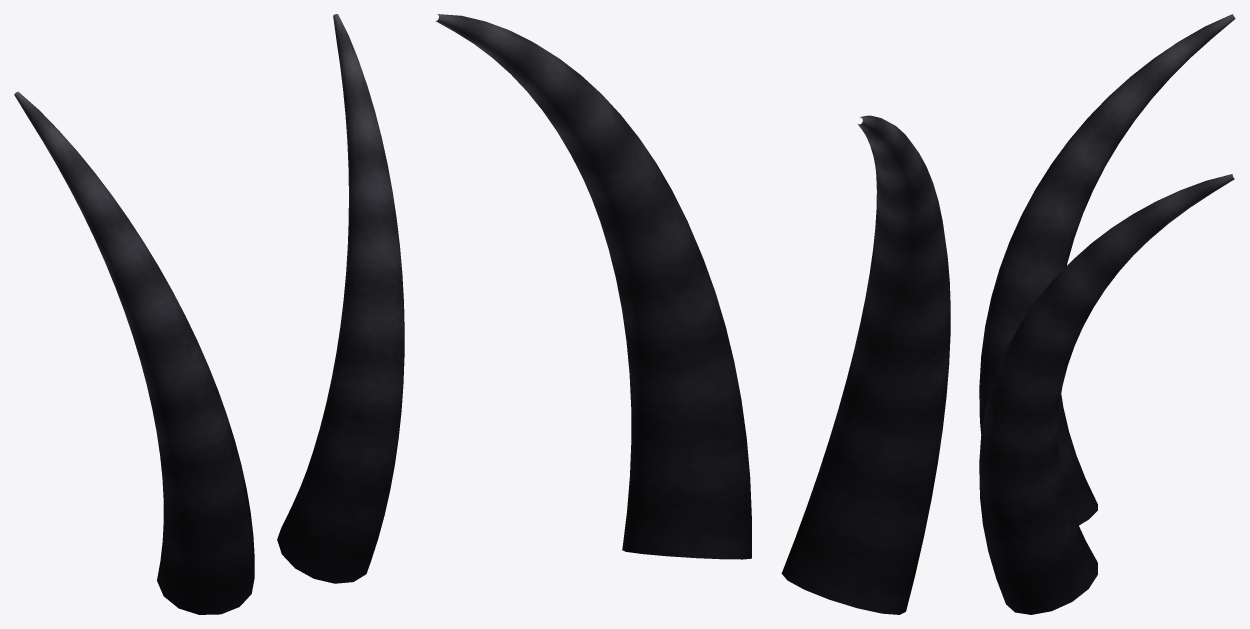
The model's file is darkjak-horns-lod0.glb.
The picture shows the model from 3 angles, left to right: view 1: azimuth 30°, elevation 25°; view 2: azimuth 150°, elevation 25°; view 3: azimuth 270°, elevation 25°; orthographic projection. The views are drawn at different scales.
Visible parts, largest first — view 1: darkjak-horns; view 2: darkjak-horns; view 3: darkjak-horns.
Boxes of the visible parts, box(x1,y1,x2,y2) form: darkjak-horns: box(14, 14, 404, 614); darkjak-horns: box(436, 14, 950, 614); darkjak-horns: box(979, 14, 1235, 614).
Size of the model in its own units: 0.3912 by 0.5362 by 0.2612.
Materials: 1 (1 with a texture image).
